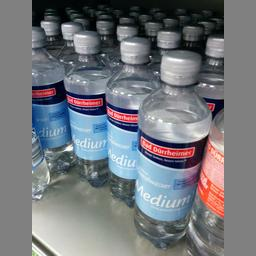water: (136, 49, 211, 248), (102, 36, 156, 204), (62, 28, 106, 186), (31, 26, 70, 180)
